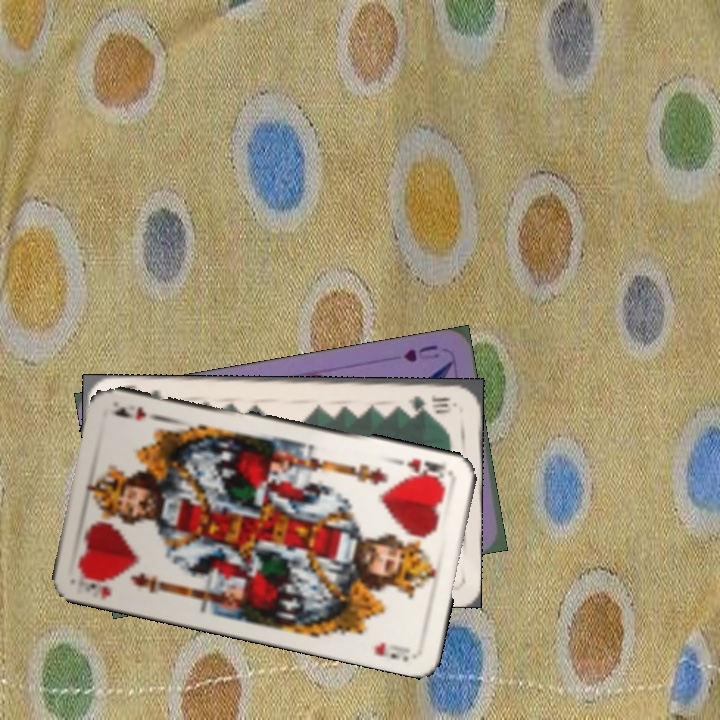G10: (405, 391, 454, 412)
HK: (72, 568, 116, 601), (402, 454, 448, 484)
HU: (400, 341, 442, 365)
